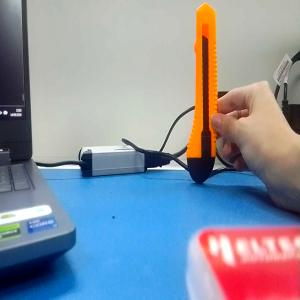estilete: (186, 3, 218, 184)
